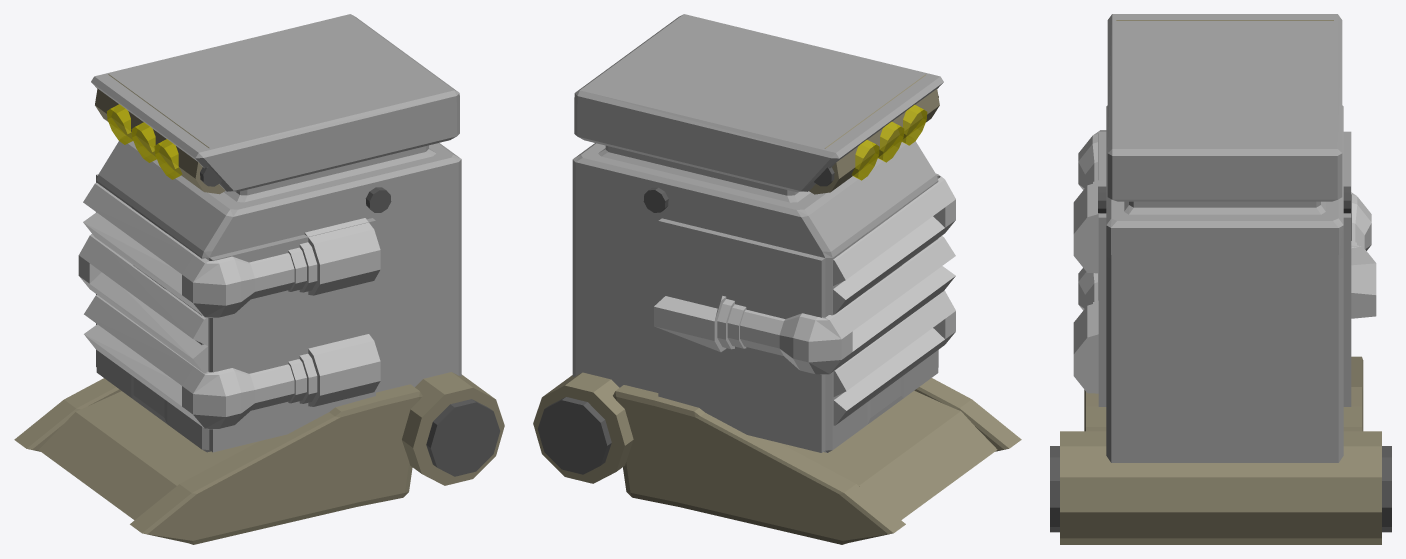
Rendered from Rubbish robot.fbx.
3 views of the same model, side by side, from view 1: azimuth 30°, elevation 25°; view 2: azimuth 150°, elevation 25°; view 3: azimuth 270°, elevation 25° (orthographic). The views are drawn at different scales.
Visible parts, largest first — view 1: pCylinder262; view 2: pCylinder262; view 3: pCylinder262.
Part boxes in pixels (<box>): pCylinder262: <box>14,14,504,544</box>; pCylinder262: <box>533,14,1021,544</box>; pCylinder262: <box>1050,14,1391,544</box>.
Bounding box in the file's own units: 830 × 867 × 649.
